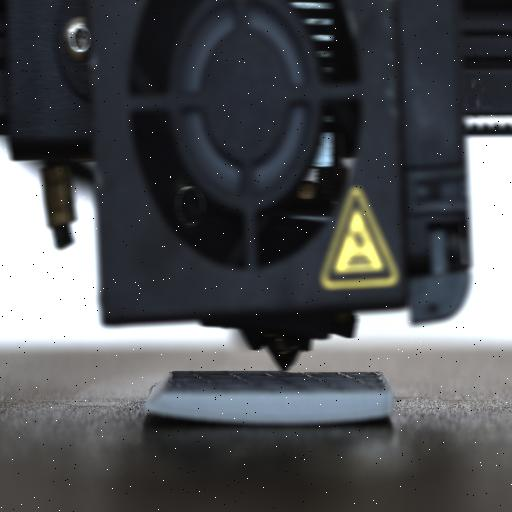warp: (136, 400, 196, 424)
